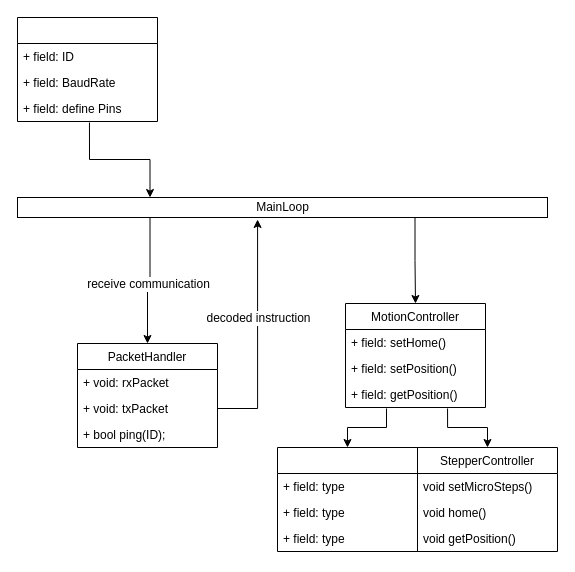
Image size: 575x572. Some labels were removed from this diagram. The box of each missing label's shape, as (x1, y1, x2, y2) in pixels:
ConfigFile.h: (16, 16, 158, 122)
MagneticEncoder: (276, 446, 418, 552)
